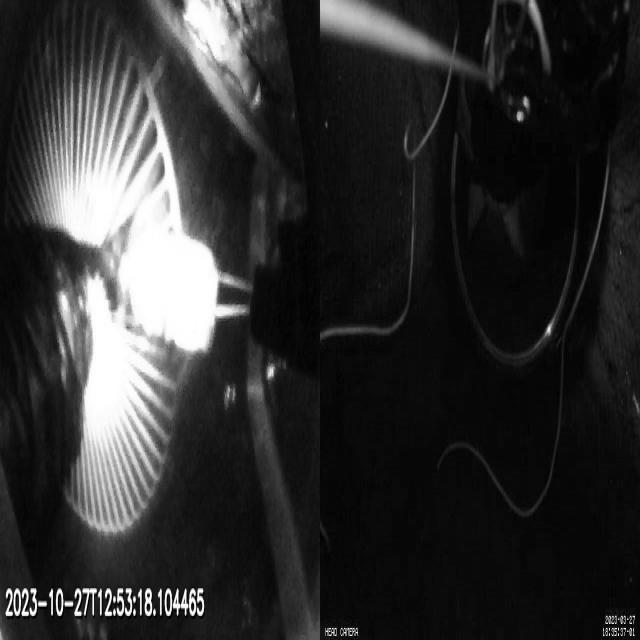head: (126, 221, 218, 355)
